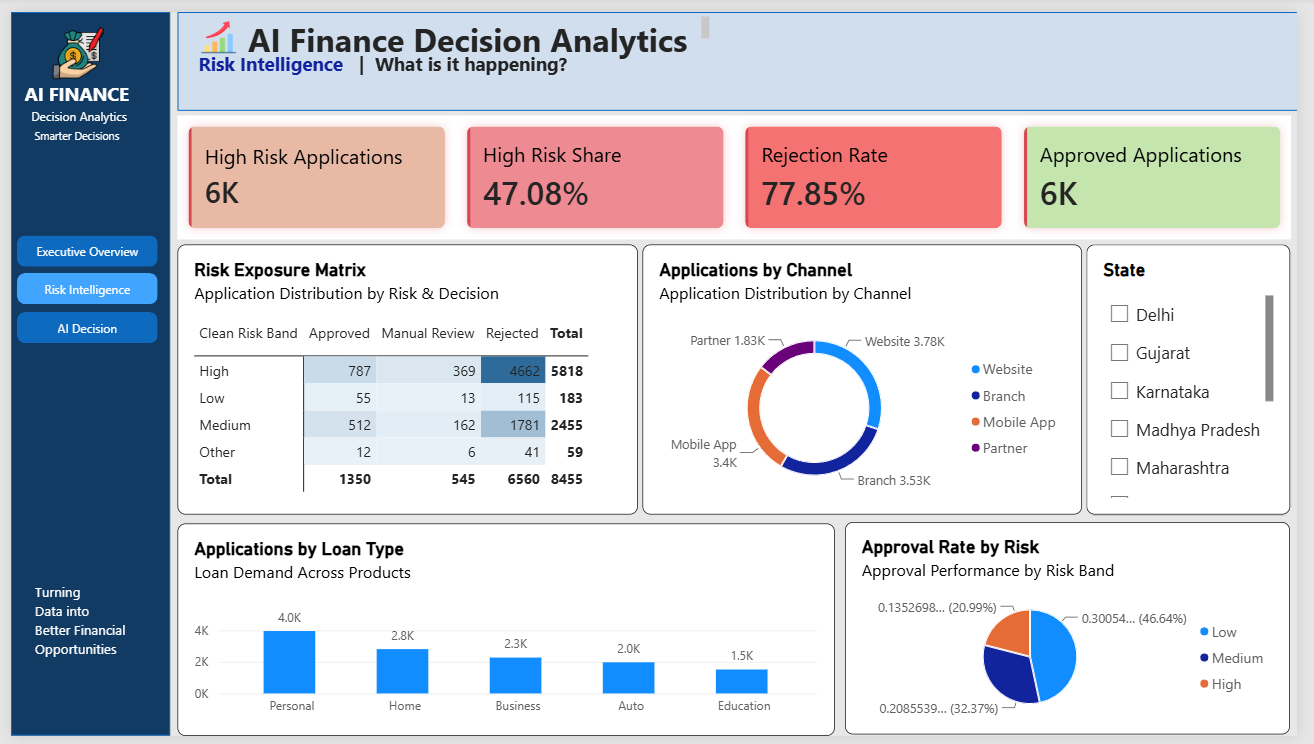

This screenshot's page, from the dashboard's own definition file:
{"tool":"powerbi","page":{"name":"Risk Intelligence","canvas":[1280,720],"ordinal":1},"visuals":[{"type":"shape","box":[0,0,158.3,720],"z":0},{"type":"shape","box":[165,0,1115,98.3],"z":1000},{"type":"cardVisual","fields":{"Data":["risk.High Risk Applications","risk.High Risk Share","decision.Rejection Rate","decision.Approved Applications"]},"box":[165,102.5,1109.2,123.8],"z":2000},{"type":"textbox","box":[13.3,68.1,124.1,68.5],"z":3000},{"type":"textbox","box":[23.3,566.7,120,110],"z":4000},{"type":"image","box":[23.2,14.6,86.3,52.2],"z":5000},{"type":"actionButton","title":"Executive Overview","box":[5.3,222.4,140,31],"z":6000},{"type":"actionButton","title":"Executive Overview","box":[5.7,260,140,31],"z":7000},{"type":"textbox","box":[226.6,3.9,468.2,41.8],"z":8000,"group":"g2"},{"type":"actionButton","title":"Executive Overview","box":[5.7,298.6,140,31],"z":8000},{"type":"group","id":"g1","title":"Group 2","box":[186.8,3.9,507.9,64.5],"z":9000},{"type":"textbox","box":[186.8,38.1,468.2,29.1],"z":9000,"group":"g2"},{"type":"pivotTable","title":"Risk Exposure Matrix","fields":{"Columns":["decision.status"],"Rows":["risk.Clean Risk Band"],"Values":["risk.Applications by Risk"]},"box":[165.3,232,458,268.7],"z":10000},{"type":"image","box":[186.8,6.5,40,35],"z":11000,"group":"g1"},{"type":"pieChart","title":"Approval Rate by Risk","fields":{"Category":["risk.Clean Risk Band"],"Y":["risk.Approval Rate by Risk"]},"box":[830,507.1,442.9,211.4],"z":11000},{"type":"clusteredColumnChart","title":"Applications by Loan Type","fields":{"Category":["loan.type"],"Y":["CountNonNull(loan.app_id)"]},"box":[165.7,508.6,654.3,211.4],"z":12000},{"type":"group","id":"g2","title":"Group 1","box":[186.8,3.9,507.9,64.5],"z":12500,"group":"g1"},{"type":"donutChart","title":"Applications by Channel","fields":{"Category":["loan.channel"],"Y":["CountNonNull(loan.app_id)"]},"box":[629,231.9,437.6,268.6],"z":13000},{"type":"slicer","title":"State ","fields":{"Values":["customer.state"]},"box":[1070,231.4,202.9,268.6],"z":14000}]}

Visuals, with their boxes in screenshot pixels (x1, y1, x2, y2), scaled from the page's 1280x720 canvas onto the 1314x744 screenshot:
shape: box(0, 0, 163, 743)
shape: box(169, 0, 1313, 102)
cardVisual - risk.High Risk Applications x risk.High Risk Share: box(169, 106, 1308, 234)
textbox: box(14, 70, 141, 141)
textbox: box(24, 586, 147, 699)
image: box(24, 15, 112, 69)
"Executive Overview" actionButton: box(5, 230, 149, 262)
"Executive Overview" actionButton: box(6, 269, 150, 301)
textbox: box(233, 4, 713, 47)
"Executive Overview" actionButton: box(6, 309, 150, 341)
"Group 2" group: box(192, 4, 713, 71)
textbox: box(192, 39, 672, 69)
"Risk Exposure Matrix" pivotTable: box(170, 240, 640, 517)
image: box(192, 7, 233, 43)
"Approval Rate by Risk" pieChart: box(852, 524, 1307, 742)
"Applications by Loan Type" clusteredColumnChart: box(170, 526, 842, 743)
"Group 1" group: box(192, 4, 713, 71)
"Applications by Channel" donutChart: box(646, 240, 1095, 517)
"State " slicer: box(1098, 239, 1307, 517)
